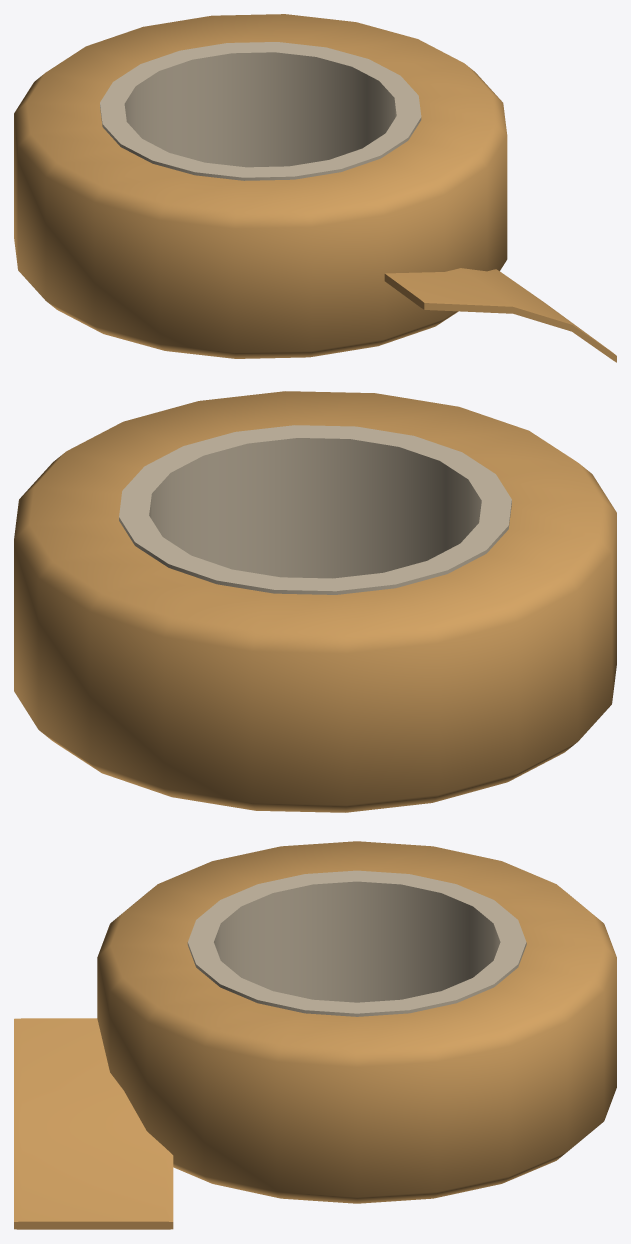
File: nastro.glb
3 renders of one model, top to bottom at view 1: azimuth 30°, elevation 25°; view 2: azimuth 150°, elevation 25°; view 3: azimuth 270°, elevation 25°, orthographic. The views are drawn at different scales.
Parts seen in each view (by area): view 1: rotolo; view 2: rotolo; view 3: rotolo.
Boxes of the visible parts, x1=… form: rotolo: x1=14, y1=14, x2=616, y2=362; rotolo: x1=14, y1=391, x2=616, y2=812; rotolo: x1=14, y1=841, x2=616, y2=1229.
Bounding box in the file's own units: 0.058 × 0.0233 × 0.0673.
